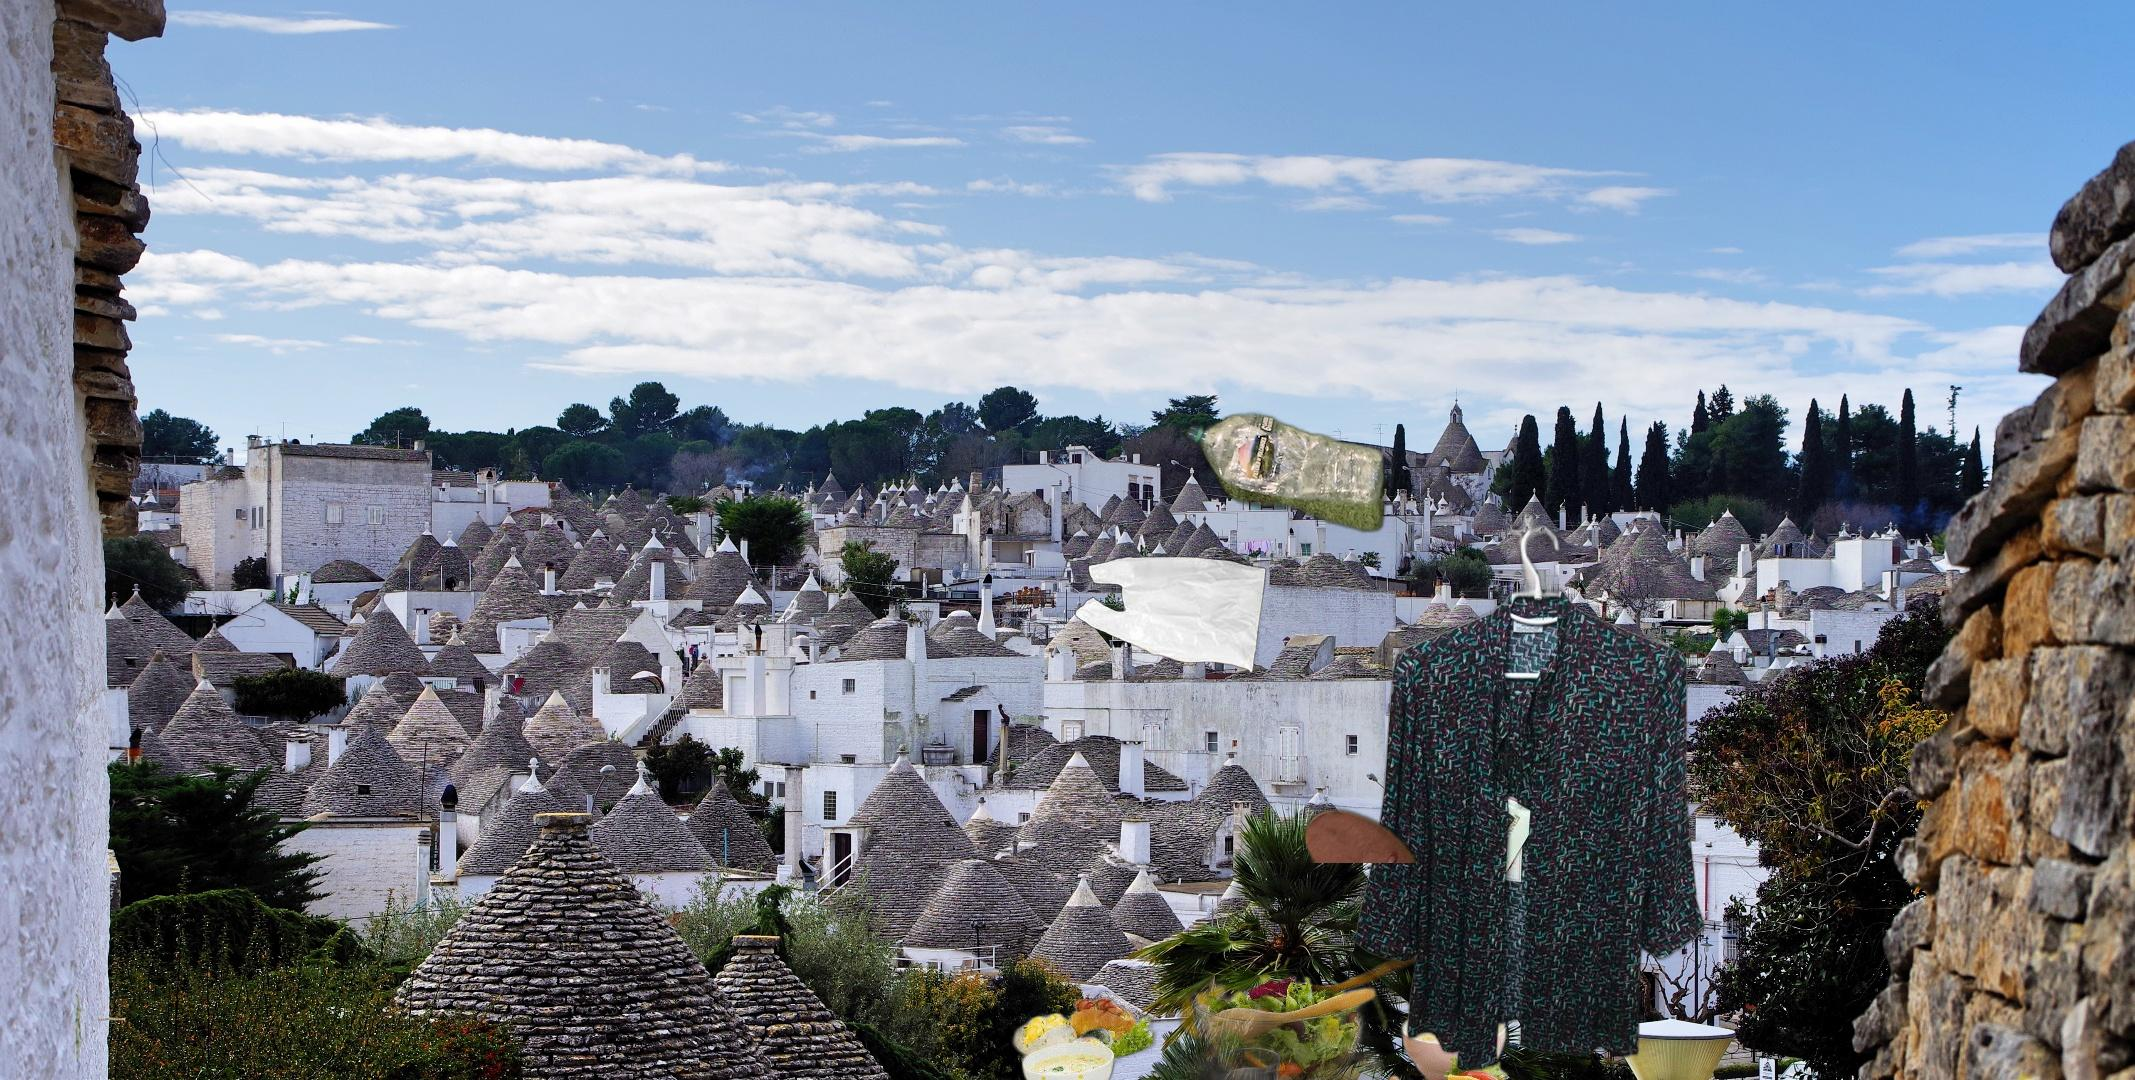biological: (992, 944, 1572, 1080)
clothes: (1348, 506, 1726, 1080)
paper: (1855, 977, 2135, 1080)
plastic-bag: (1072, 552, 1269, 676)
plastic-bottles: (1178, 408, 1423, 862)
